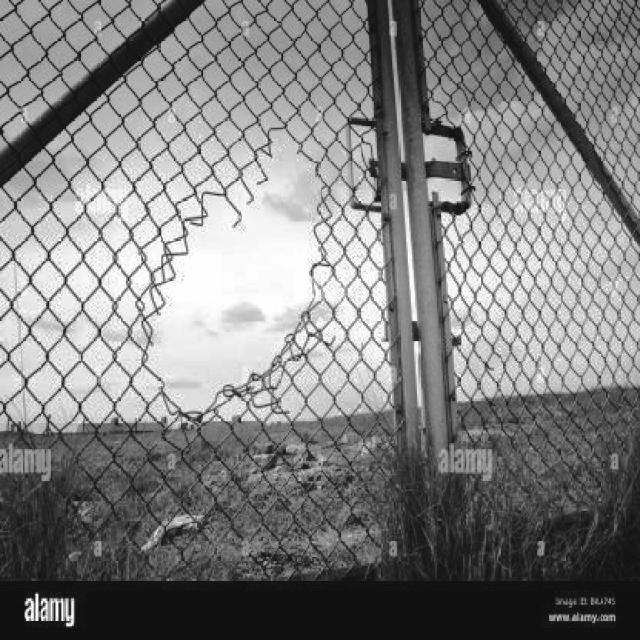anomaly-fence: (116, 97, 384, 410)
